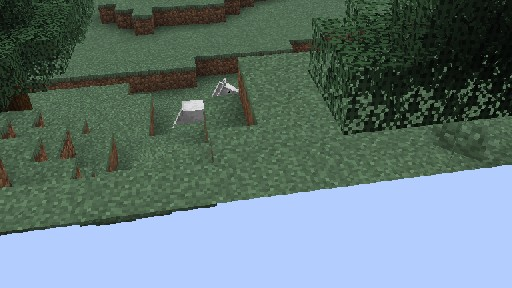horse: (171, 76, 242, 144)
